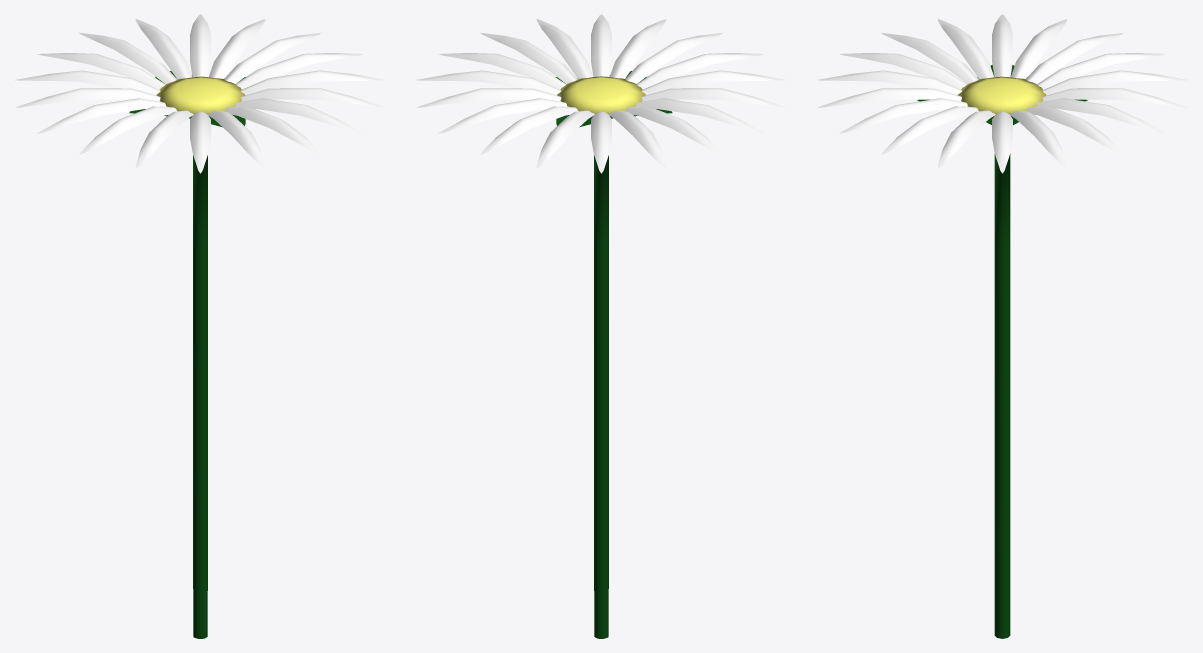
Rendered from White_Flower_size3.FBX.
The picture shows the model from 3 angles, left to right: view 1: azimuth 30°, elevation 25°; view 2: azimuth 150°, elevation 25°; view 3: azimuth 270°, elevation 25°; orthographic projection.
Parts seen in each view (by area): view 1: White_Flower_size3; view 2: White_Flower_size3; view 3: White_Flower_size3.
Part boxes in pixels (x1,y1,x2,y2): White_Flower_size3: (15,14,385,638); White_Flower_size3: (416,14,786,638); White_Flower_size3: (817,14,1187,638).
Size of the model in its own units: 5.89 by 9.55 by 5.8.
